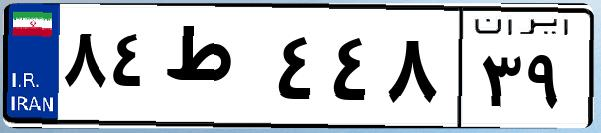3: (475, 38, 525, 113)
4: (270, 28, 330, 110), (330, 28, 385, 110), (110, 28, 158, 98)
8: (385, 28, 445, 110), (57, 26, 110, 100)
9: (525, 38, 570, 115)
ط: (158, 20, 270, 120)
